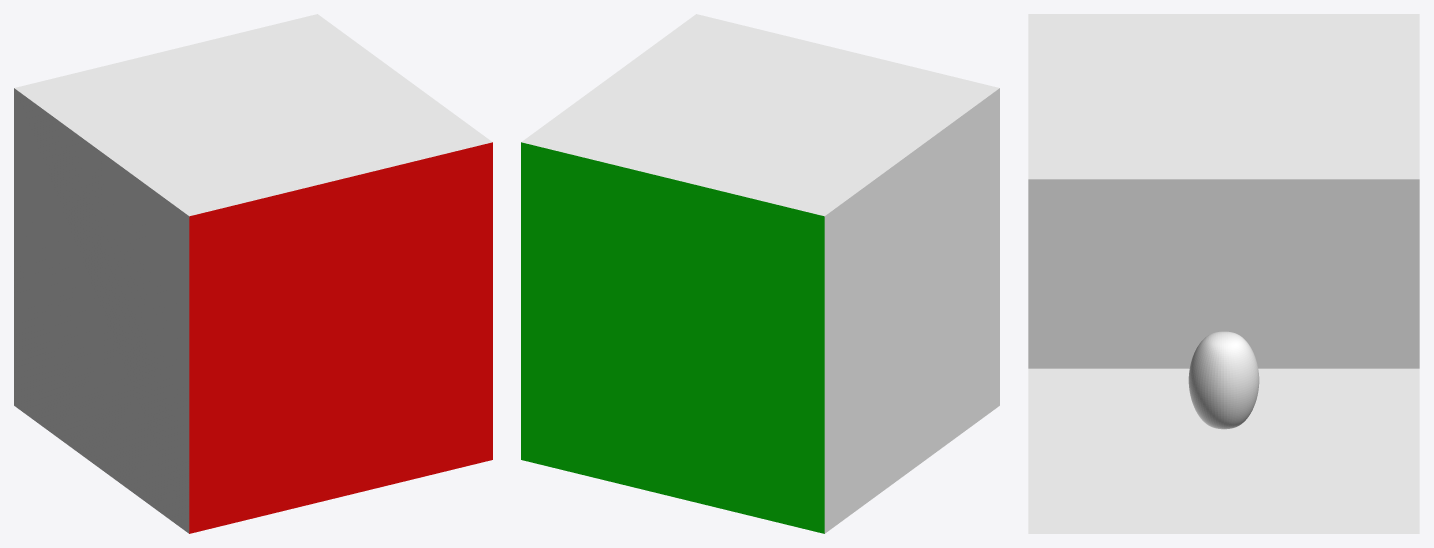
File: cornell_blender_tricount_test.glb
3 views of the same model, side by side, from view 1: azimuth 30°, elevation 25°; view 2: azimuth 150°, elevation 25°; view 3: azimuth 270°, elevation 25° (orthographic). The views are drawn at different scales.
Visible parts, largest first — view 1: Plane.002, Plane.003, Plane.004; view 2: Plane.001, Plane.003, Plane.004; view 3: Plane.003, Plane.004, Plane, Sphere.001.
Boxes of the visible parts, box(x1,y1,x2,y2) form: Plane.002: box(189, 142, 492, 533); Plane.003: box(14, 88, 189, 533); Plane.004: box(14, 14, 492, 216); Plane.001: box(521, 142, 824, 533); Plane.003: box(824, 88, 999, 533); Plane.004: box(521, 14, 999, 216); Plane.003: box(1028, 179, 1419, 368); Plane.004: box(1028, 14, 1419, 179); Plane: box(1028, 368, 1419, 533); Sphere.001: box(1188, 331, 1259, 429).
Size of the model in its own units: 10 by 10 by 10.
